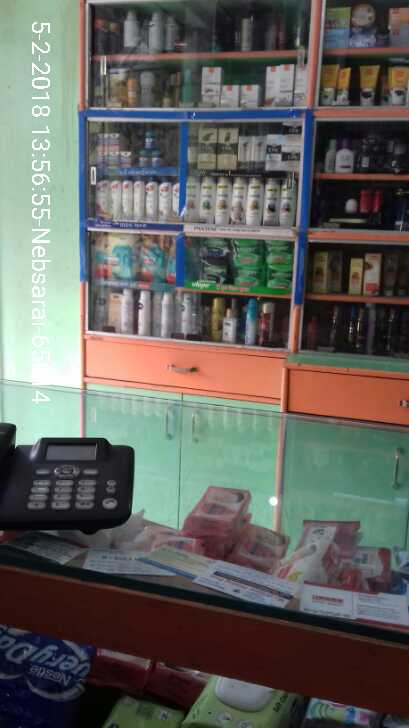vicks: (86, 124, 164, 178)
